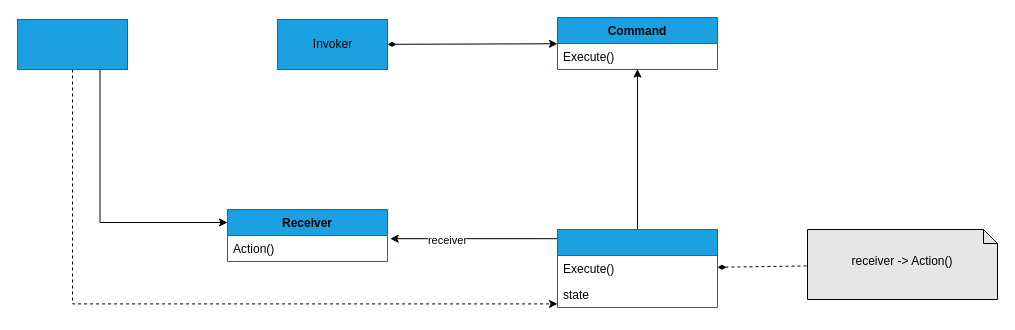
Image size: 1015x330. Some labels were removed from this diagram. Each missing label, with the box of its shape:
Client: (16, 18, 128, 70)
ConcreteCommand: (556, 228, 718, 308)
